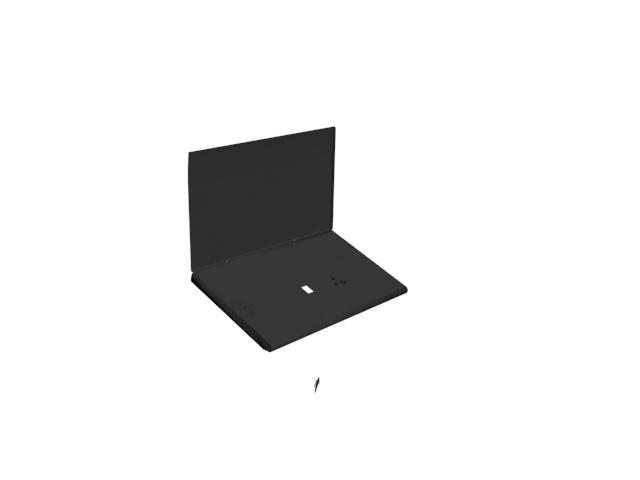laptop_computer: (185, 121, 409, 400)
